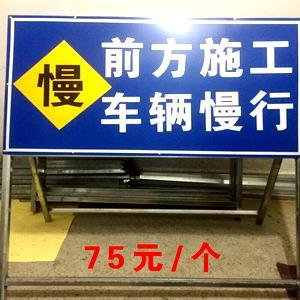sign: (5, 18, 300, 154)
